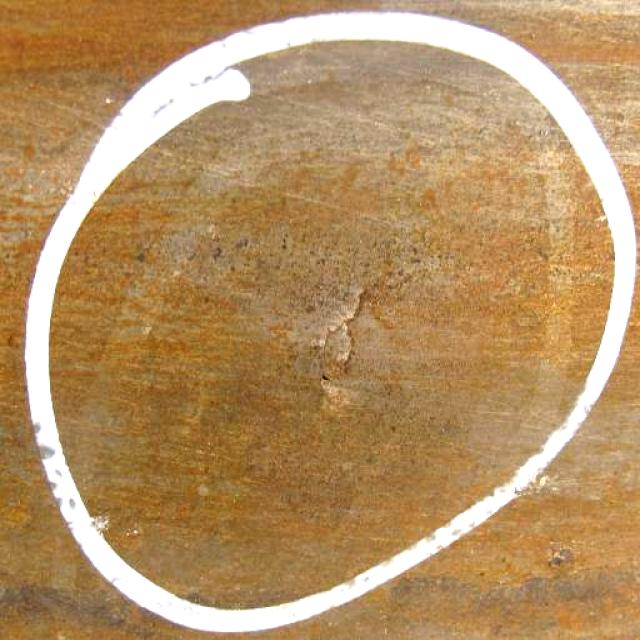Contact_Fatigue_Cracks: (318, 286, 373, 398)
